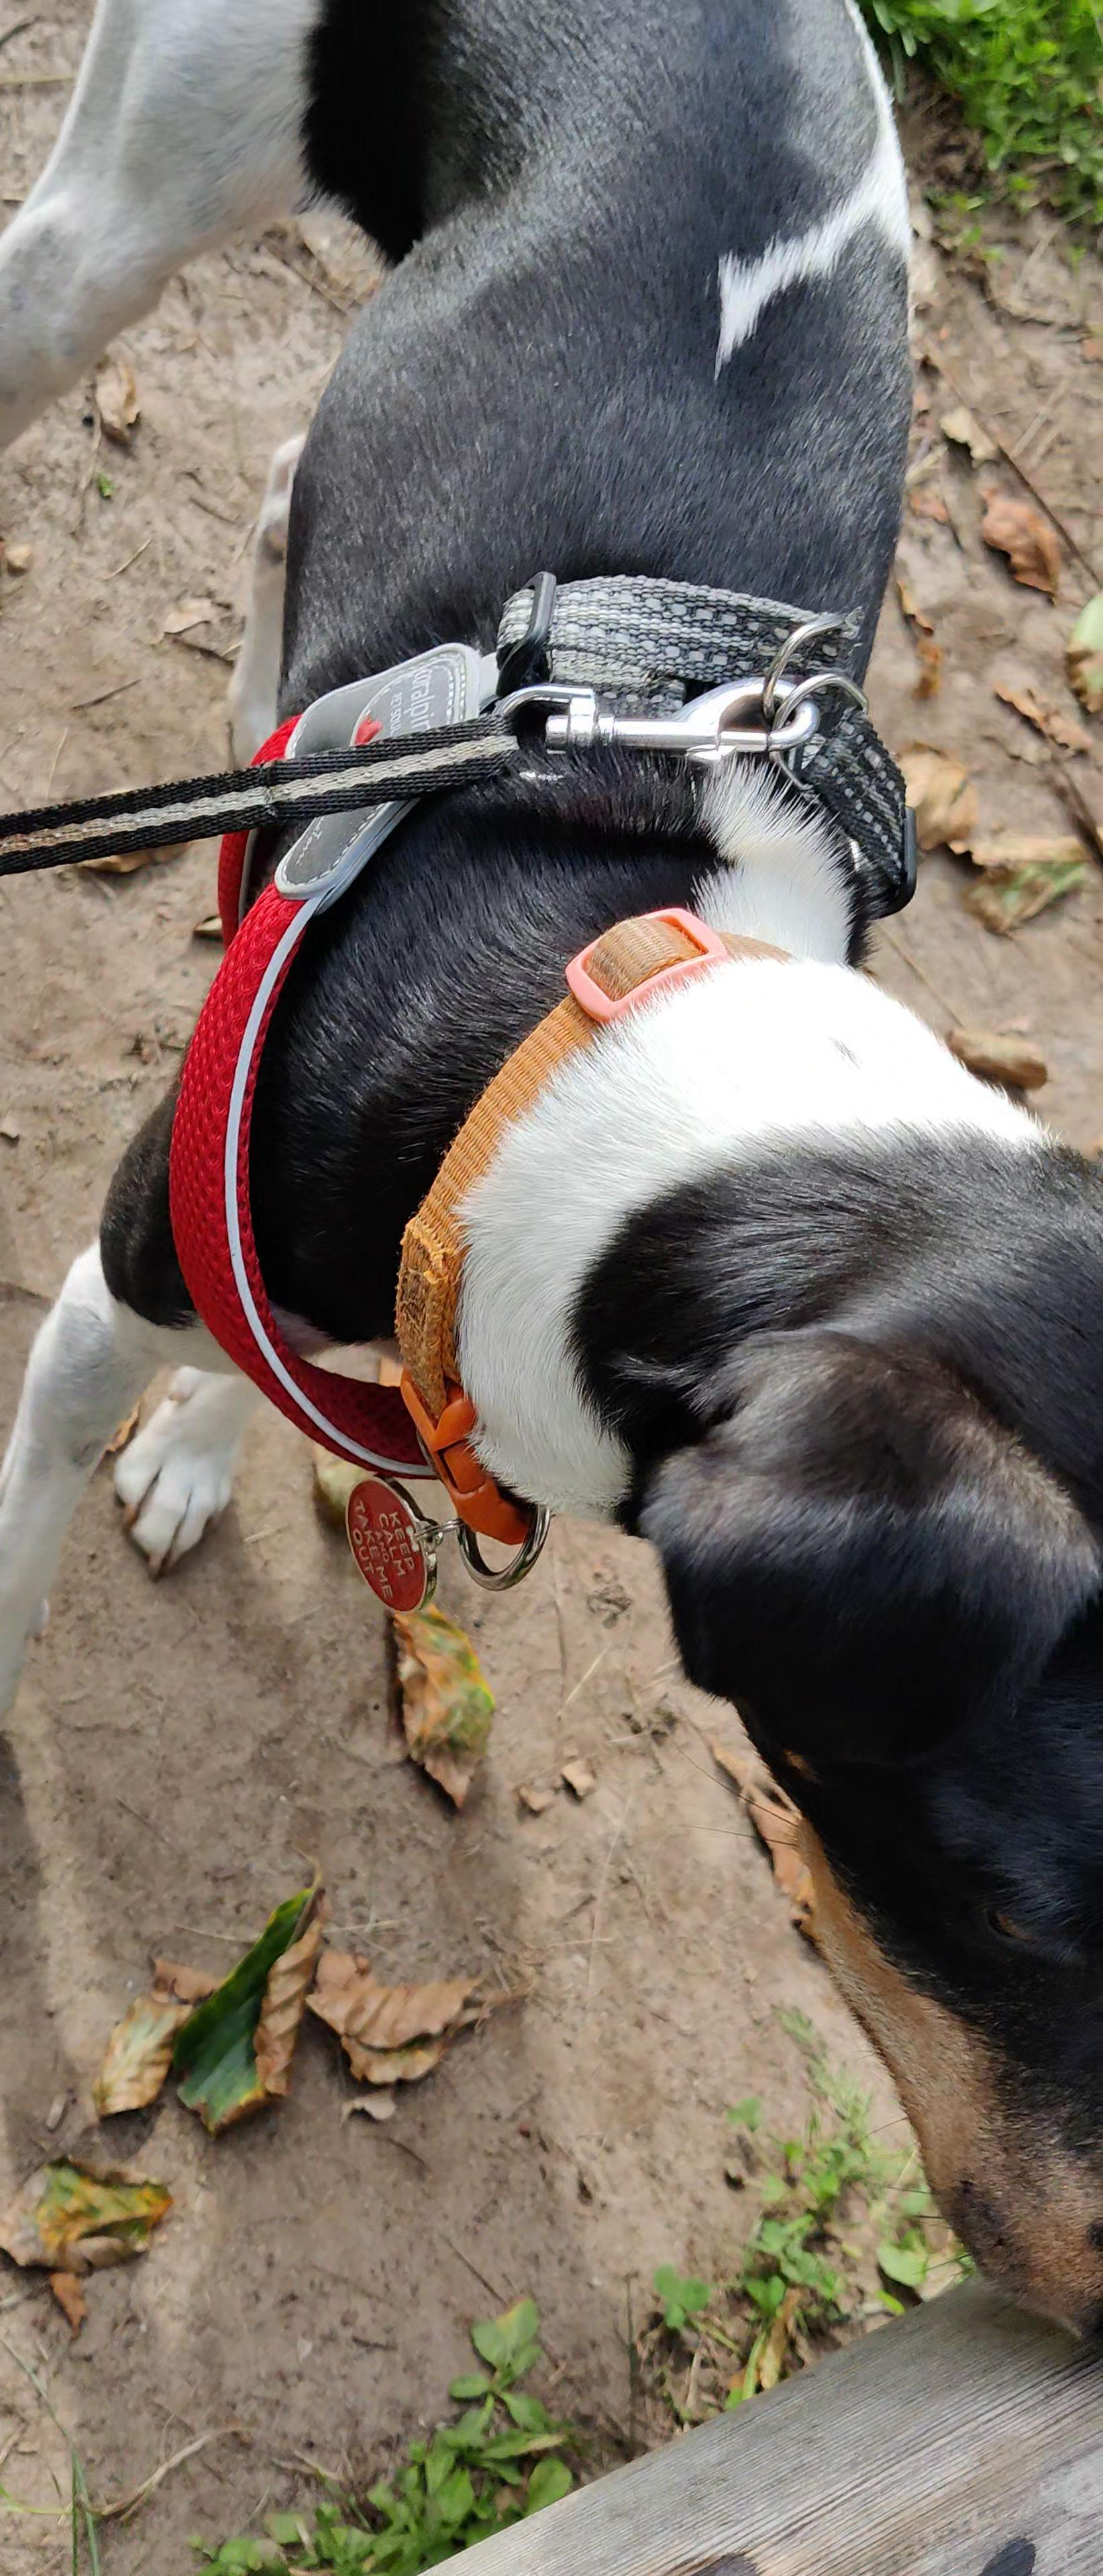Dog: (0, 0, 1103, 2367)
